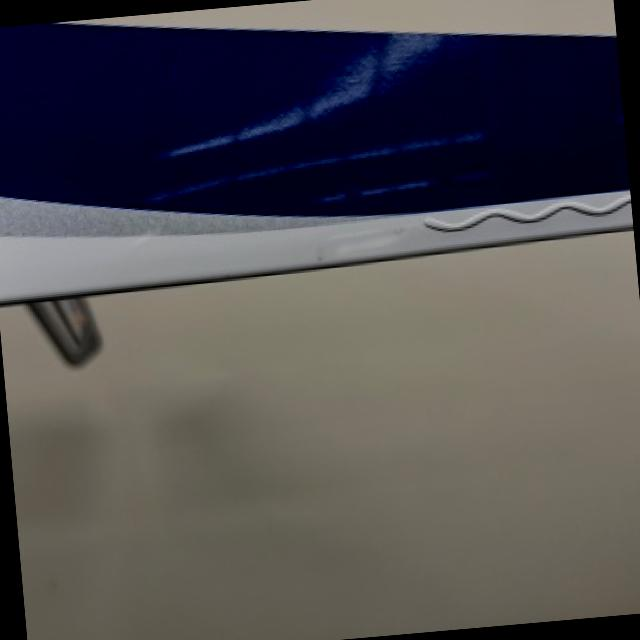healthy: (0, 21, 631, 359)
